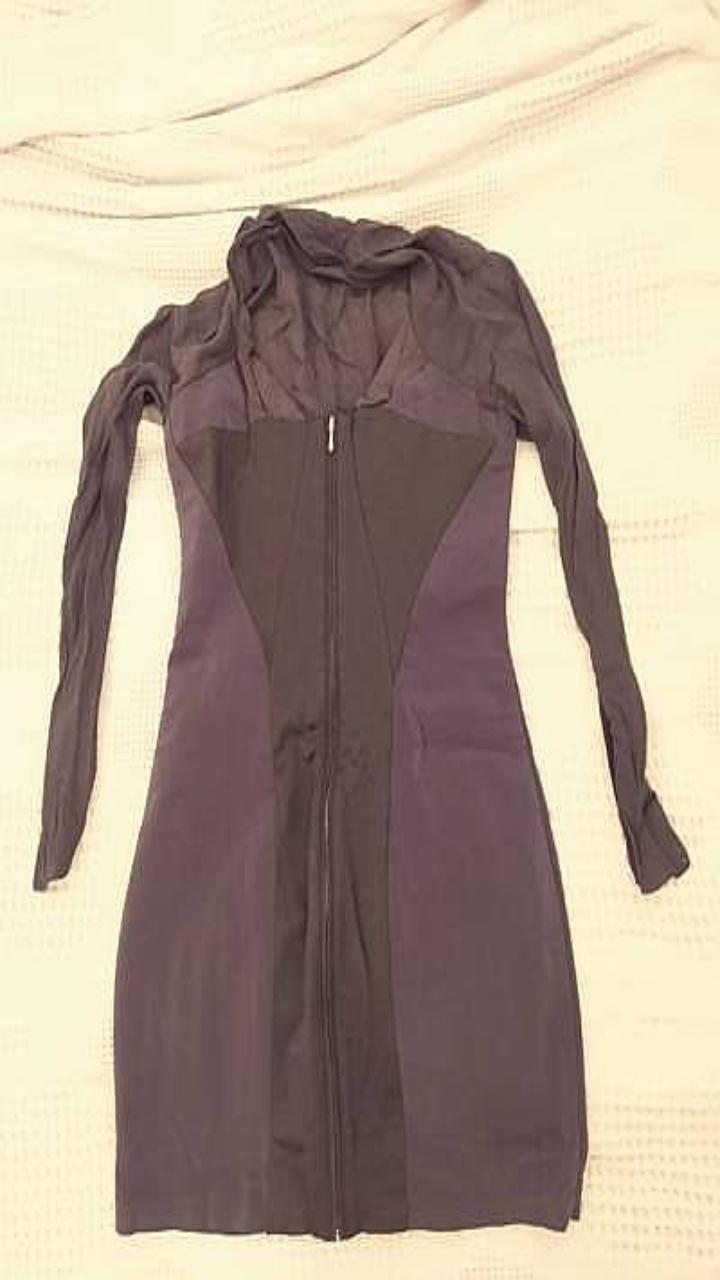Coat: (33, 204, 688, 1238)
